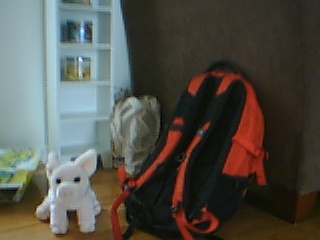piggy: (34, 149, 103, 234)
